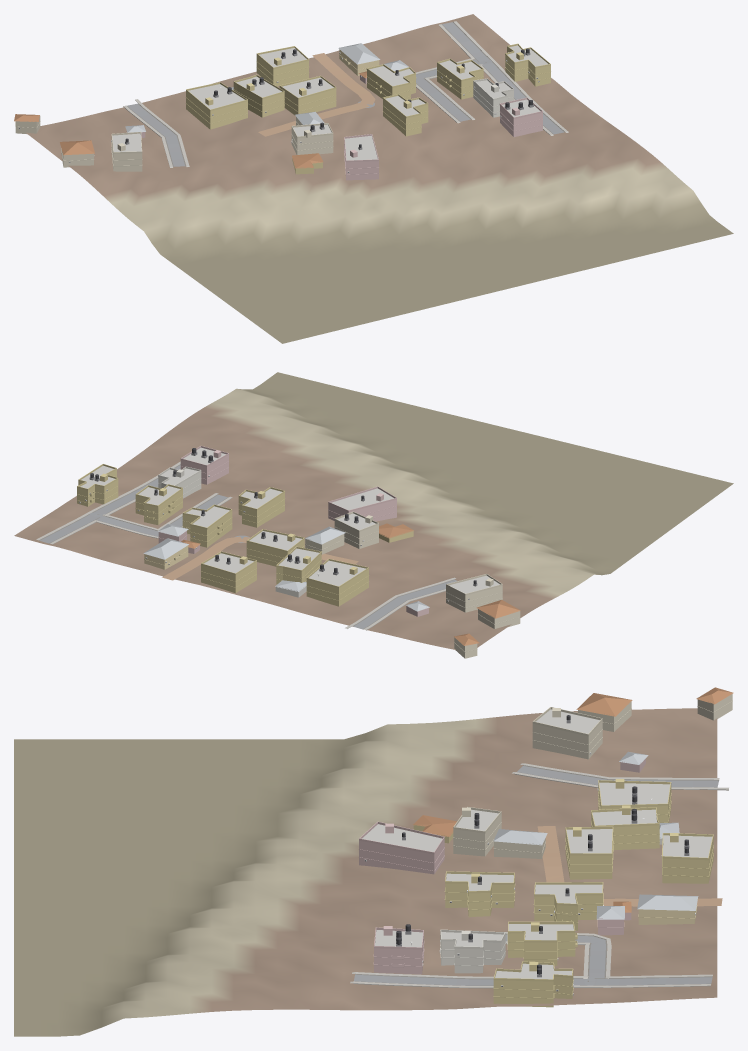
The picture shows the model from 3 angles, top to bottom: view 1: azimuth 30°, elevation 25°; view 2: azimuth 150°, elevation 25°; view 3: azimuth 270°, elevation 25°; orthographic projection. The views are drawn at different scales.
Parts seen in each view (by area): view 1: Terrain-col, Buildings-col, Details, Roads-col, Sidewalks-col; view 2: Terrain-col, Buildings-col, Details, Roads-col, Sidewalks-col; view 3: Terrain-col, Buildings-col, Details, Roads-col, Sidewalks-col.
Part boxes in pixels (left/top/right/bottom): Terrain-col: left=26, top=14, right=733, bottom=343; Buildings-col: left=14, top=43, right=550, bottom=180; Details: left=15, top=43, right=550, bottom=174; Roads-col: left=127, top=22, right=564, bottom=166; Sidewalks-col: left=123, top=21, right=568, bottom=167; Terrain-col: left=14, top=372, right=733, bottom=649; Buildings-col: left=77, top=447, right=520, bottom=658; Details: left=77, top=446, right=519, bottom=652; Roads-col: left=39, top=464, right=457, bottom=629; Sidewalks-col: left=36, top=461, right=455, bottom=630; Terrain-col: left=14, top=708, right=717, bottom=1036; Buildings-col: left=359, top=687, right=733, bottom=1007; Details: left=359, top=701, right=732, bottom=998; Roads-col: left=354, top=765, right=722, bottom=985; Sidewalks-col: left=350, top=763, right=728, bottom=988.
Size of the model in its own units: 261 by 25.86 by 262.
